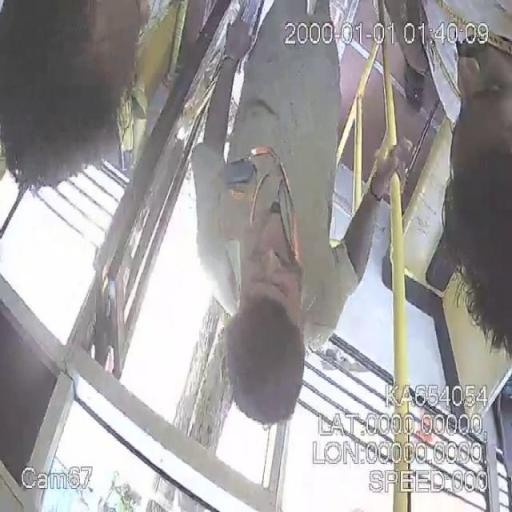persona: (181, 1, 401, 431), (421, 1, 512, 380), (0, 0, 160, 182)
